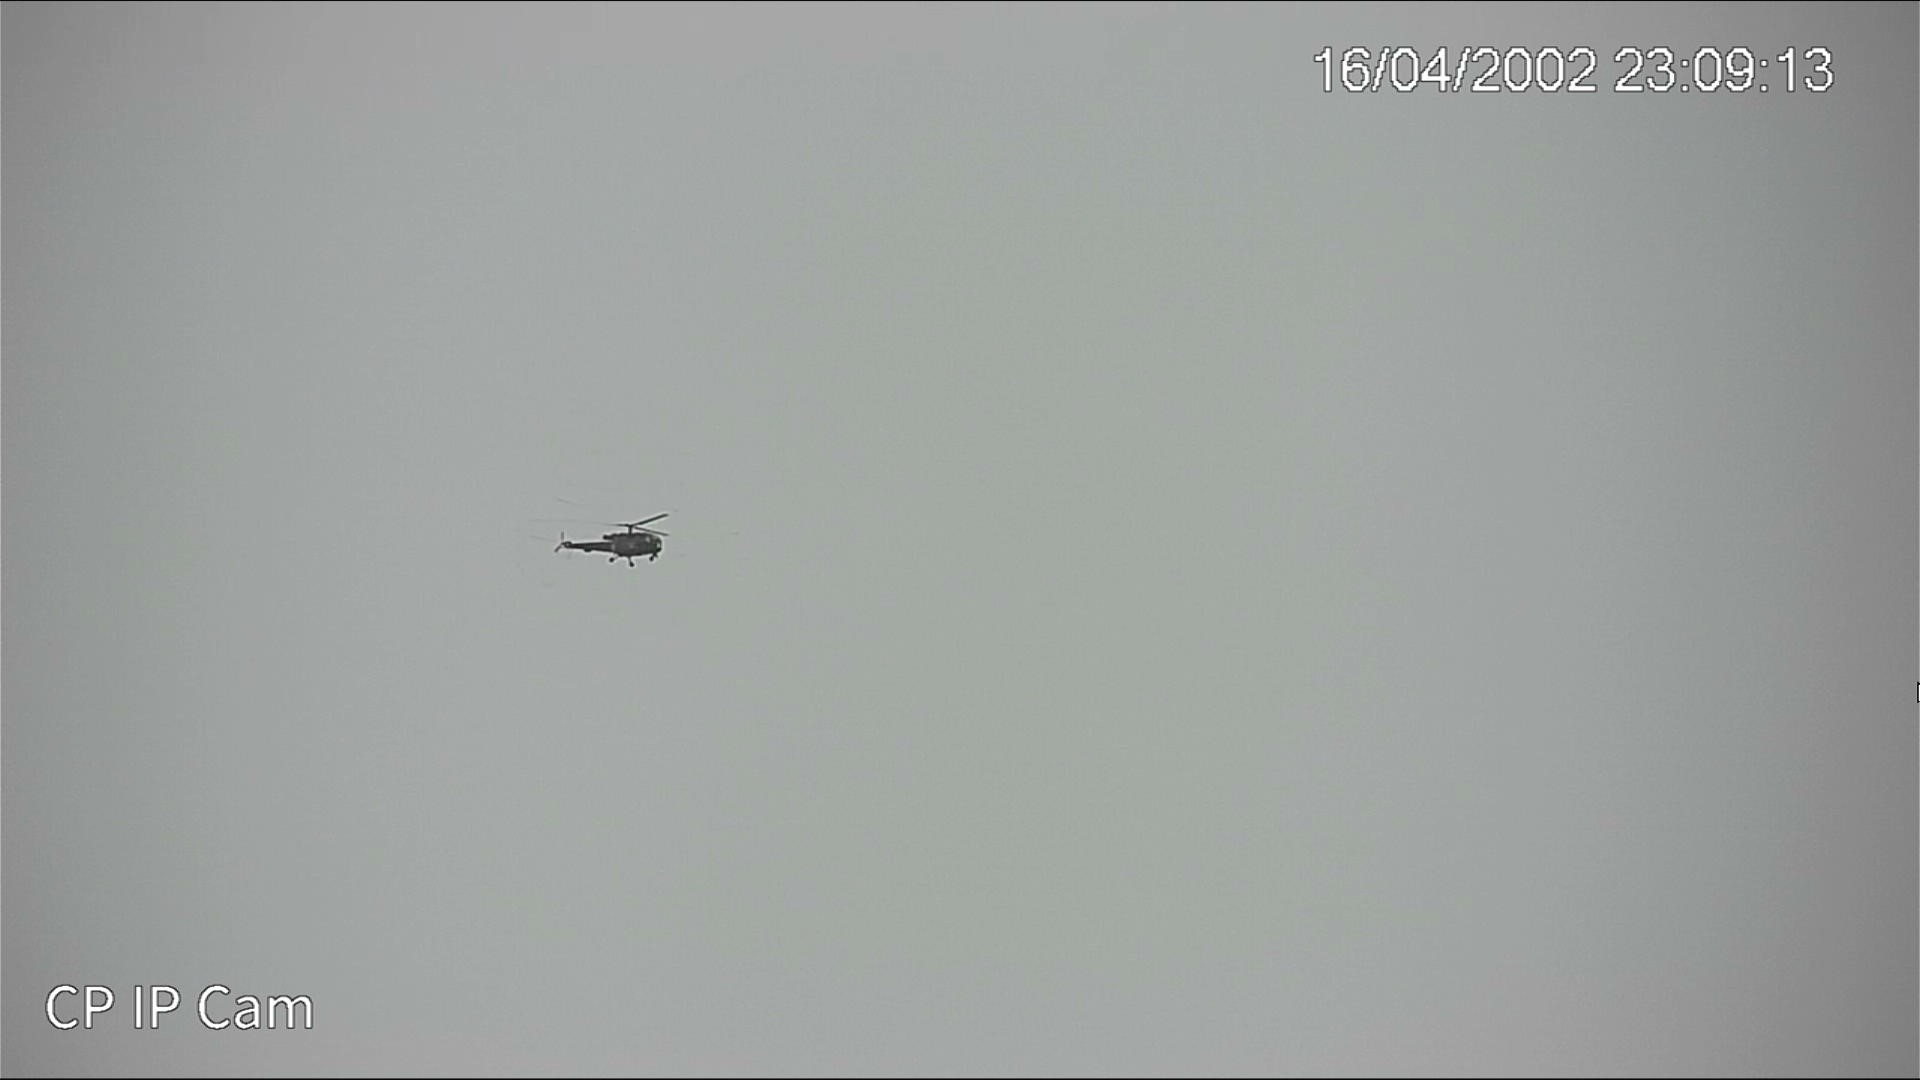SU_30: (558, 516, 666, 574)
